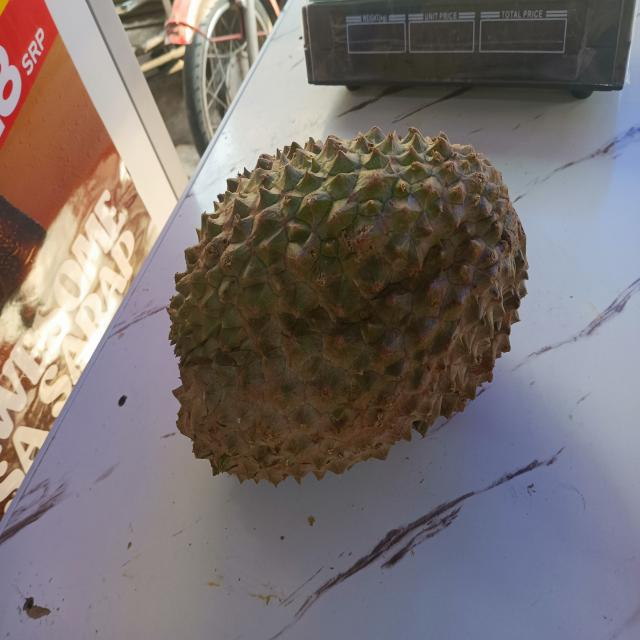mature: (168, 127, 527, 484)
